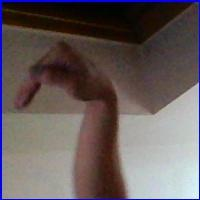del: (14, 36, 107, 129)
